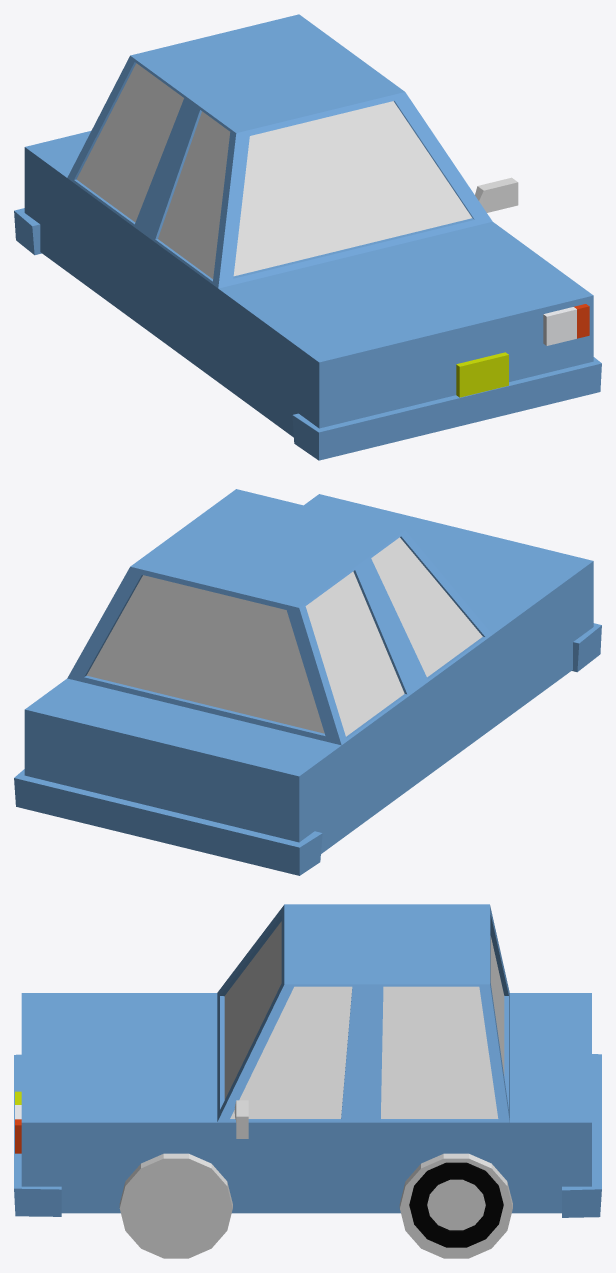
Rendered from Mobil.glb.
3 renders of one model, top to bottom at view 1: azimuth 30°, elevation 25°; view 2: azimuth 150°, elevation 25°; view 3: azimuth 270°, elevation 25°, orthographic. The views are drawn at different scales.
Parts seen in each view (by area): view 1: Cube, Cube.003, Cube.001, Cube.002; view 2: Cube; view 3: Cube, Cylinder, Cylinder.002, Cylinder.003, Cube.002.
Boxes of the visible parts, box(x1,y1,x2,y2) form: Cube: box(14, 14, 601, 460); Cube.003: box(456, 352, 508, 397); Cube.001: box(543, 304, 589, 345); Cube.002: box(475, 177, 518, 212); Cube: box(14, 489, 601, 875); Cube: box(14, 904, 601, 1217); Cylinder: box(119, 1153, 232, 1258); Cylinder.002: box(399, 1153, 512, 1258); Cylinder.003: box(409, 1162, 503, 1247); Cube.002: box(234, 1100, 248, 1138).
Bounding box in the file's own units: 2.59 × 1.96 × 4.28.
